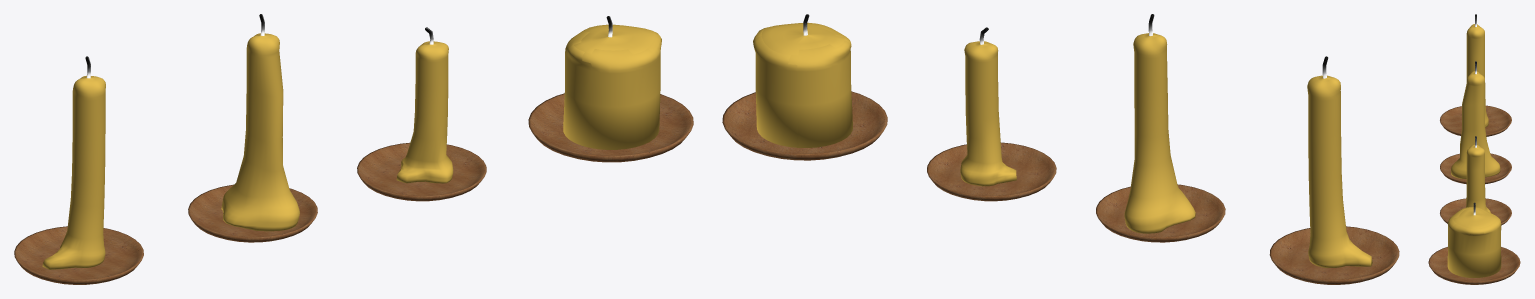
The model's file is t_velas_4.glb.
3 renders of one model, left to right at view 1: azimuth 30°, elevation 25°; view 2: azimuth 150°, elevation 25°; view 3: azimuth 270°, elevation 25°, orthographic. The views are drawn at different scales.
Parts seen in each view (by area): view 1: Candle 1_0; view 2: Candle 1_0; view 3: Candle 1_0.
Boxes of the visible parts, <box> form: Candle 1_0: <box>14,14,693,284</box>; Candle 1_0: <box>722,14,1399,284</box>; Candle 1_0: <box>1428,14,1520,284</box>.
Size of the model in its own units: 0.5 by 0.1485 by 0.1089.
Materials: 3 (3 with a texture image).
